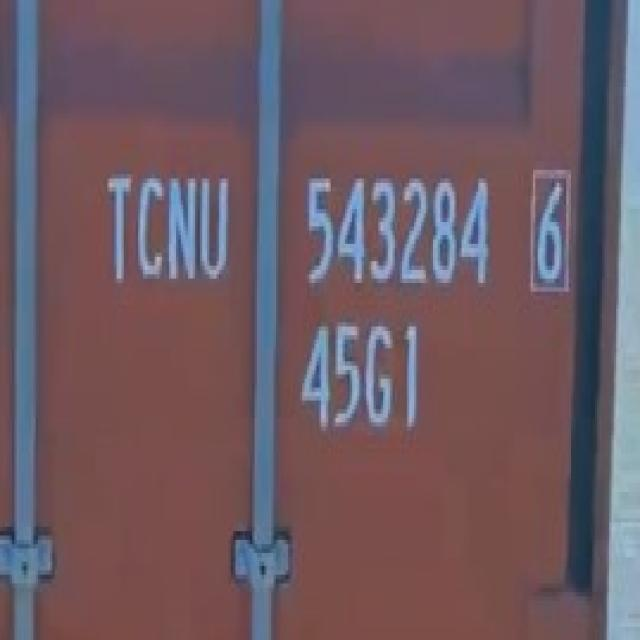dv: (526, 156, 574, 298)
owner: (102, 163, 232, 293)
serial: (296, 161, 492, 299)
size: (289, 306, 427, 452)
